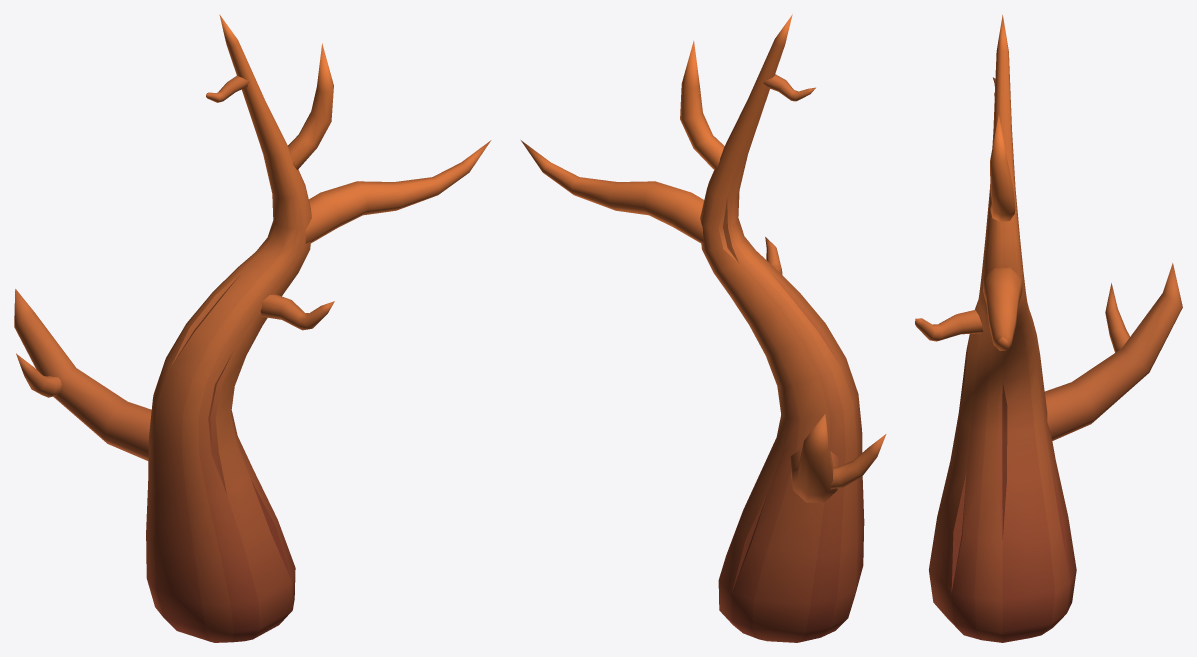
The model's file is Tree_Bare_1_C_Color1.glb.
The picture shows the model from 3 angles, left to right: view 1: azimuth 30°, elevation 25°; view 2: azimuth 150°, elevation 25°; view 3: azimuth 270°, elevation 25°; orthographic projection.
Visible parts, largest first — view 1: Tree_Bare_1_C_Color1; view 2: Tree_Bare_1_C_Color1; view 3: Tree_Bare_1_C_Color1.
Boxes of the visible parts, x1,y1,x2,y2 form: Tree_Bare_1_C_Color1: (14, 14, 491, 642); Tree_Bare_1_C_Color1: (521, 14, 886, 642); Tree_Bare_1_C_Color1: (915, 15, 1182, 642).
Bounding box in the file's own units: 3.74 × 5.26 × 2.07.
Materials: 1 (1 with a texture image).
